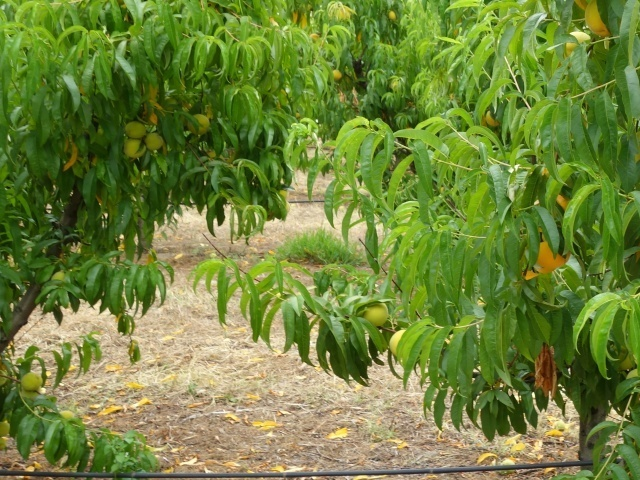peach: (528, 236, 572, 272), (362, 298, 390, 331), (184, 112, 212, 139), (118, 136, 147, 161), (387, 326, 408, 360), (17, 369, 43, 394), (121, 119, 148, 142), (143, 130, 167, 154)
